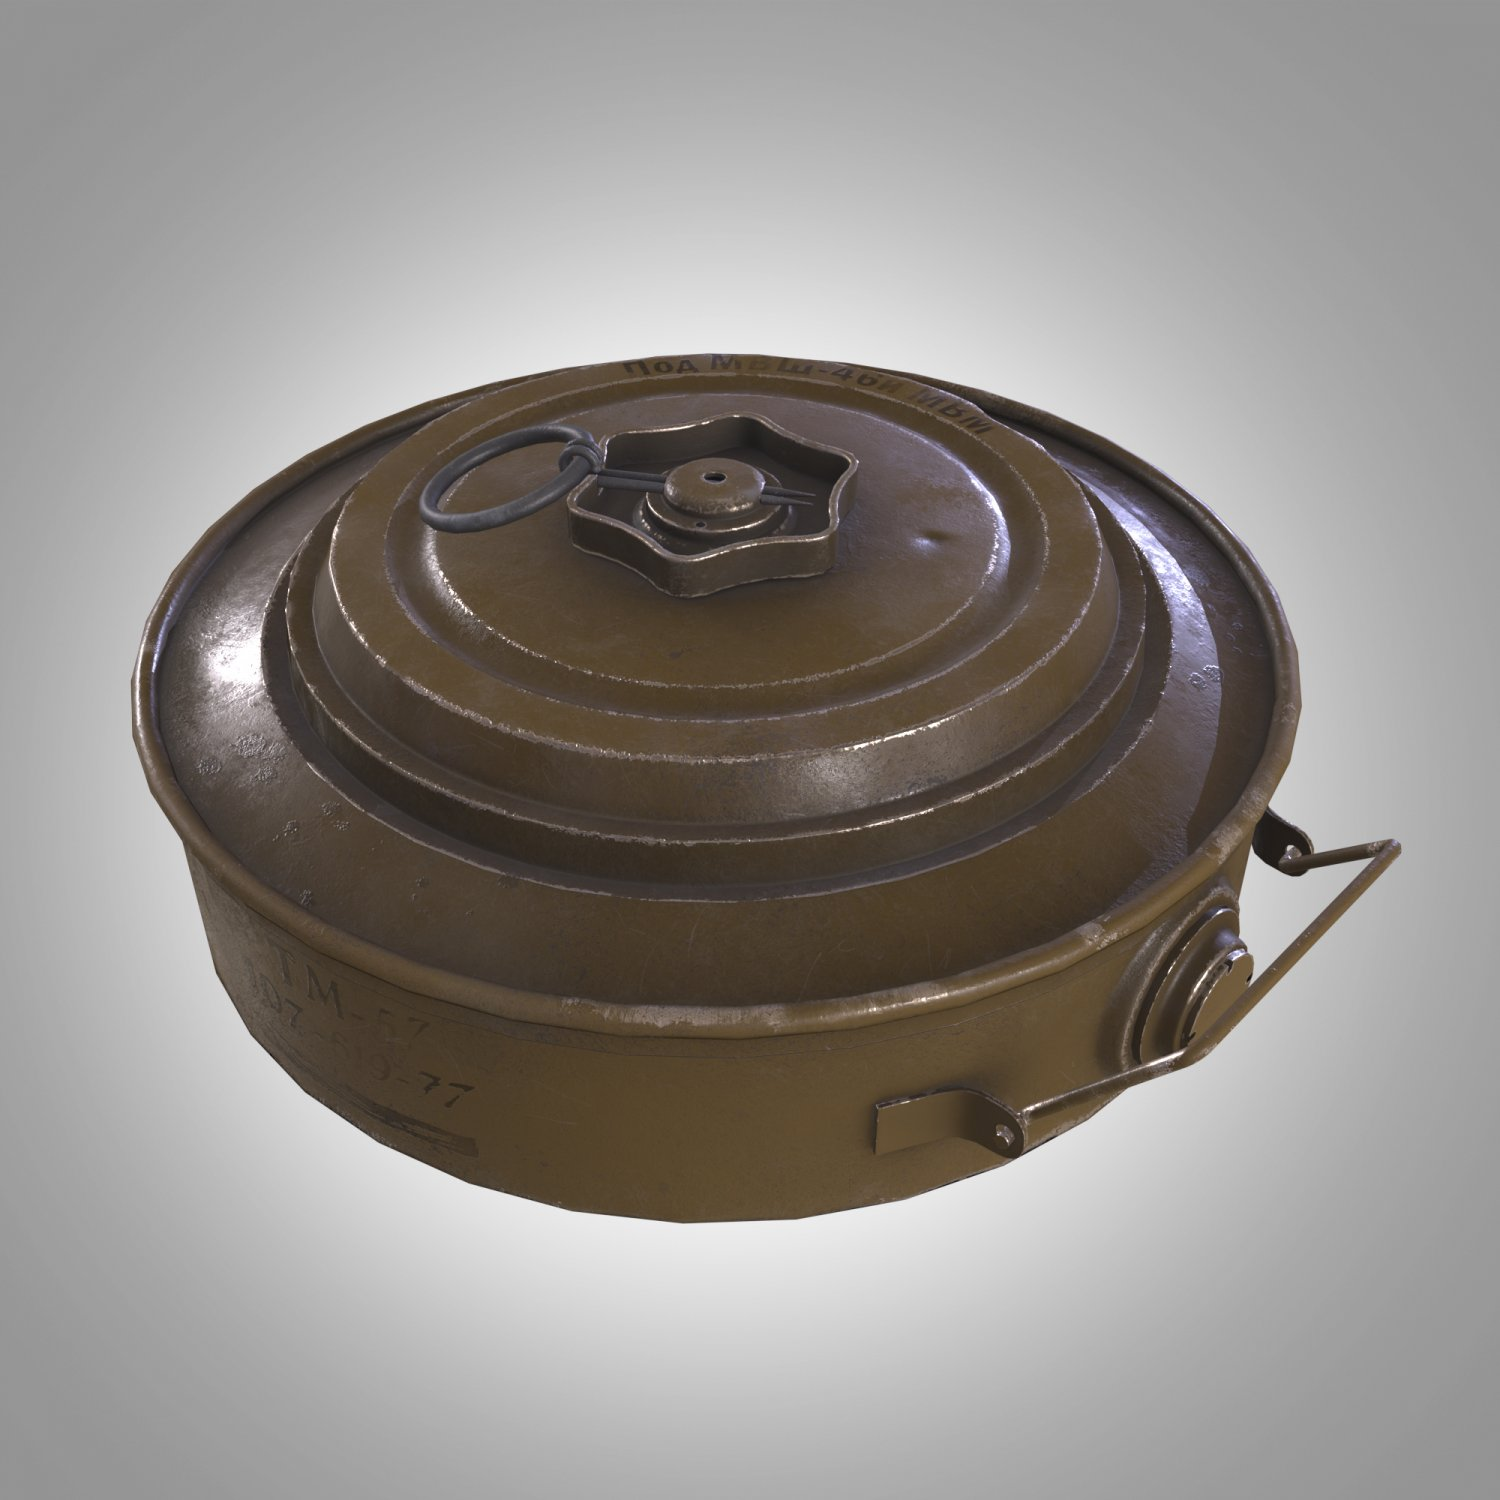car: (62, 282, 1402, 1298)
